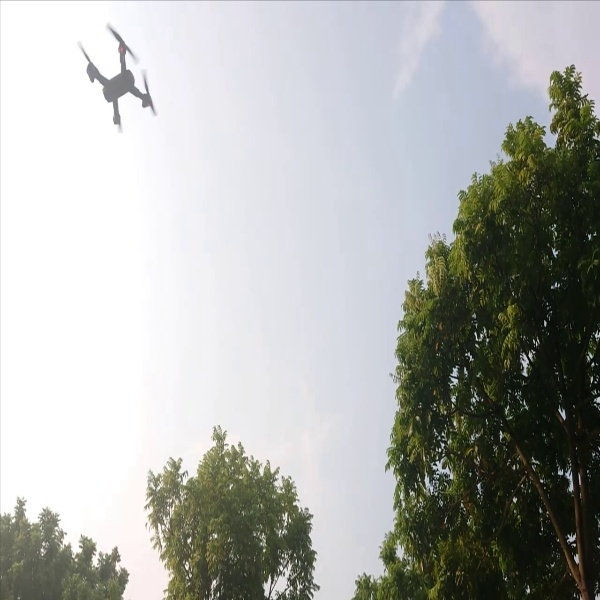drone: (69, 14, 167, 137)
